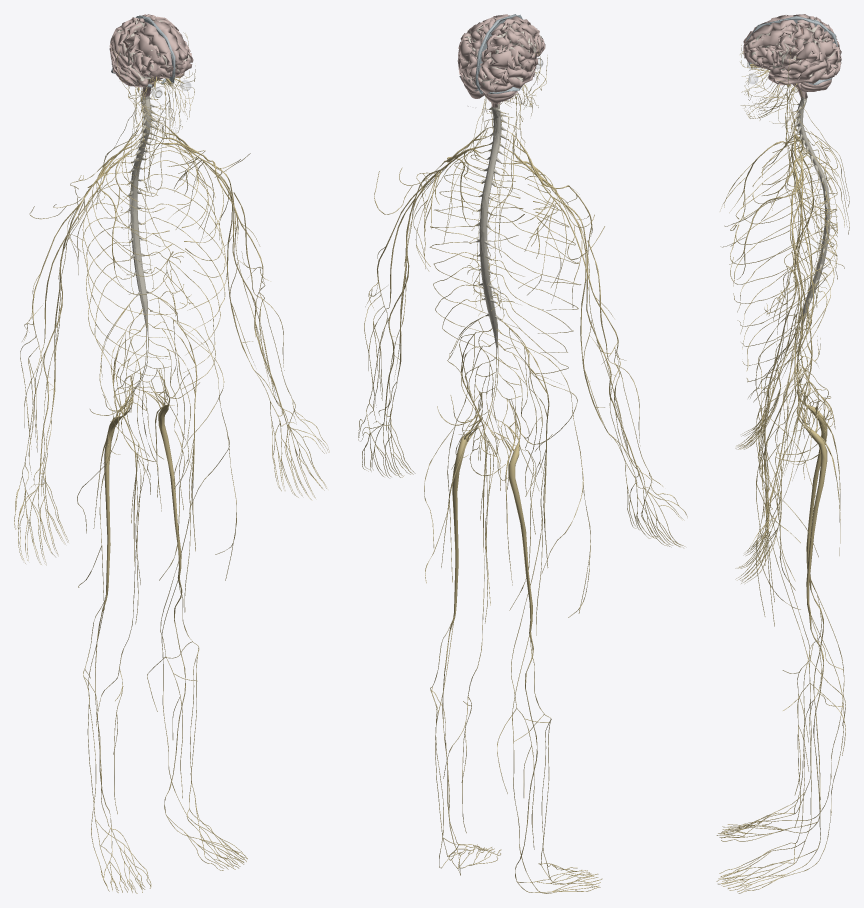
The model's file is adult_male.nervous.LOD3.glb.
3 views of the same model, side by side, from view 1: azimuth 30°, elevation 25°; view 2: azimuth 150°, elevation 25°; view 3: azimuth 270°, elevation 25° (orthographic). The views are drawn at different scales.
Parts seen in each view (by area): view 1: ADULT.MALE.NERVOUS.SPINAL_DURA, ADULT.MALE.NERVOUS.INTERCOSTAL_NERVES.R, ADULT.MALE.NERVOUS.INTERCOSTAL_NERVES.L, ADULT.MALE.NERVOUS.SCIATIC_NERVE.R, ADULT.MALE.NERVOUS.SCIATIC_NERVE.L; view 2: ADULT.MALE.NERVOUS.SPINAL_DURA, ADULT.MALE.NERVOUS.INTERCOSTAL_NERVES.L, ADULT.MALE.NERVOUS.INTERCOSTAL_NERVES.R, ADULT.MALE.NERVOUS.SCIATIC_NERVE.R, ADULT.MALE.NERVOUS.SCIATIC_NERVE.L, ADULT.MALE.NERVOUS.SAPHENOUS_NERVE.R; view 3: ADULT.MALE.NERVOUS.INTERCOSTAL_NERVES.L, ADULT.MALE.NERVOUS.SPINAL_DURA, ADULT.MALE.NERVOUS.INTERCOSTAL_NERVES.R, ADULT.MALE.NERVOUS.SCIATIC_NERVE.L, ADULT.MALE.NERVOUS.SCIATIC_NERVE.R, ADULT.MALE.NERVOUS.WHITE_MATTER_OF_TELENCEPHALON, ADULT.MALE.NERVOUS.SAPHENOUS_NERVE.L, ADULT.MALE.NERVOUS.LATERAL_FEMORAL_CUTANEOUS_NERVE.L, ADULT.MALE.NERVOUS.MIDDLE_FRONTAL_GYRUS.L, ADULT.MALE.NERVOUS.MEDIAN_NERVE.L, ADULT.MALE.NERVOUS.SAPHENOUS_NERVE.R, ADULT.MALE.NERVOUS.VAGUS_NERVE_X.R (+16 smaller).
Part boxes in pixels (x1=…): ADULT.MALE.NERVOUS.SPINAL_DURA: x1=127, y1=95, x2=157, y2=330; ADULT.MALE.NERVOUS.INTERCOSTAL_NERVES.R: x1=82, y1=148, x2=173, y2=392; ADULT.MALE.NERVOUS.INTERCOSTAL_NERVES.L: x1=141, y1=143, x2=227, y2=389; ADULT.MALE.NERVOUS.SCIATIC_NERVE.R: x1=104, y1=375, x2=132, y2=595; ADULT.MALE.NERVOUS.SCIATIC_NERVE.L: x1=148, y1=369, x2=181, y2=577; ADULT.MALE.NERVOUS.SPINAL_DURA: x1=476, y1=104, x2=507, y2=352; ADULT.MALE.NERVOUS.INTERCOSTAL_NERVES.L: x1=429, y1=154, x2=524, y2=369; ADULT.MALE.NERVOUS.INTERCOSTAL_NERVES.R: x1=490, y1=162, x2=581, y2=373; ADULT.MALE.NERVOUS.SCIATIC_NERVE.R: x1=497, y1=399, x2=532, y2=631; ADULT.MALE.NERVOUS.SCIATIC_NERVE.L: x1=452, y1=393, x2=481, y2=613; ADULT.MALE.NERVOUS.SAPHENOUS_NERVE.R: x1=497, y1=455, x2=545, y2=849; ADULT.MALE.NERVOUS.INTERCOSTAL_NERVES.L: x1=730, y1=153, x2=837, y2=382; ADULT.MALE.NERVOUS.SPINAL_DURA: x1=796, y1=96, x2=830, y2=329; ADULT.MALE.NERVOUS.INTERCOSTAL_NERVES.R: x1=730, y1=140, x2=837, y2=371; ADULT.MALE.NERVOUS.SCIATIC_NERVE.L: x1=796, y1=384, x2=827, y2=612; ADULT.MALE.NERVOUS.SCIATIC_NERVE.R: x1=796, y1=370, x2=827, y2=576; ADULT.MALE.NERVOUS.WHITE_MATTER_OF_TELENCEPHALON: x1=746, y1=23, x2=841, y2=81; ADULT.MALE.NERVOUS.SAPHENOUS_NERVE.L: x1=762, y1=453, x2=845, y2=827; ADULT.MALE.NERVOUS.LATERAL_FEMORAL_CUTANEOUS_NERVE.L: x1=755, y1=340, x2=818, y2=616; ADULT.MALE.NERVOUS.MIDDLE_FRONTAL_GYRUS.L: x1=746, y1=30, x2=792, y2=62; ADULT.MALE.NERVOUS.MEDIAN_NERVE.L: x1=769, y1=198, x2=802, y2=507; ADULT.MALE.NERVOUS.SAPHENOUS_NERVE.R: x1=762, y1=423, x2=845, y2=795; ADULT.MALE.NERVOUS.VAGUS_NERVE_X.R: x1=764, y1=85, x2=812, y2=320.
Bounding box in the file's own units: 0.6673 × 1.69 × 0.2426.
